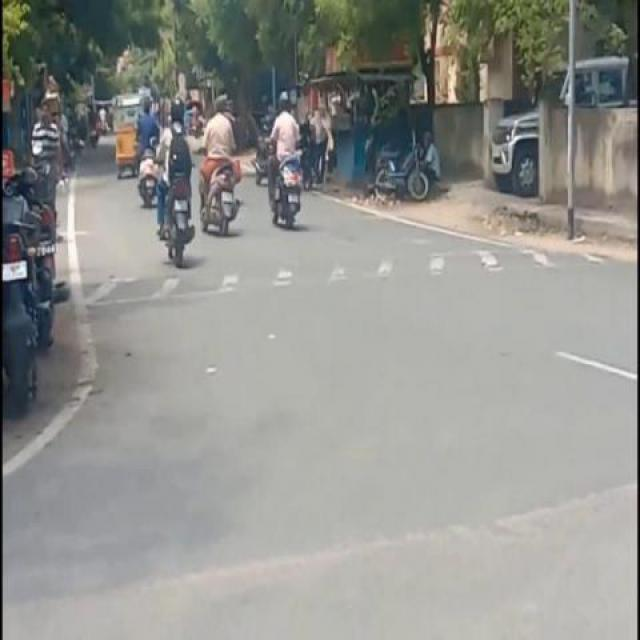Speed Bump: (186, 249, 610, 296), (80, 270, 187, 310)
